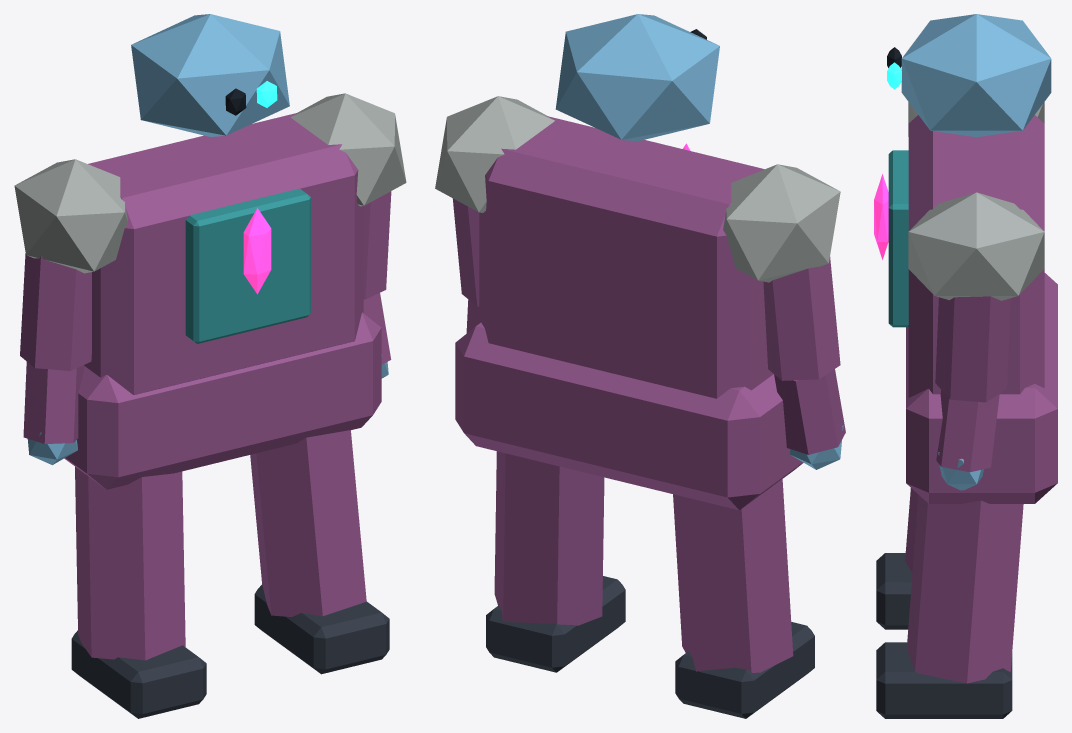
The model's file is npcs_001_seed11.glb.
3 renders of one model, left to right at view 1: azimuth 30°, elevation 25°; view 2: azimuth 150°, elevation 25°; view 3: azimuth 270°, elevation 25°, orthographic. The views are drawn at different scales.
Parts seen in each view (by area): view 1: npcs_001_seed11; view 2: npcs_001_seed11; view 3: npcs_001_seed11.
Boxes of the visible parts, x1,y1,x2,y2 form: npcs_001_seed11: (14,14,406,718); npcs_001_seed11: (435,14,845,718); npcs_001_seed11: (874,14,1057,718).
Size of the model in its own units: 1.2 by 1.97 by 0.5114.
